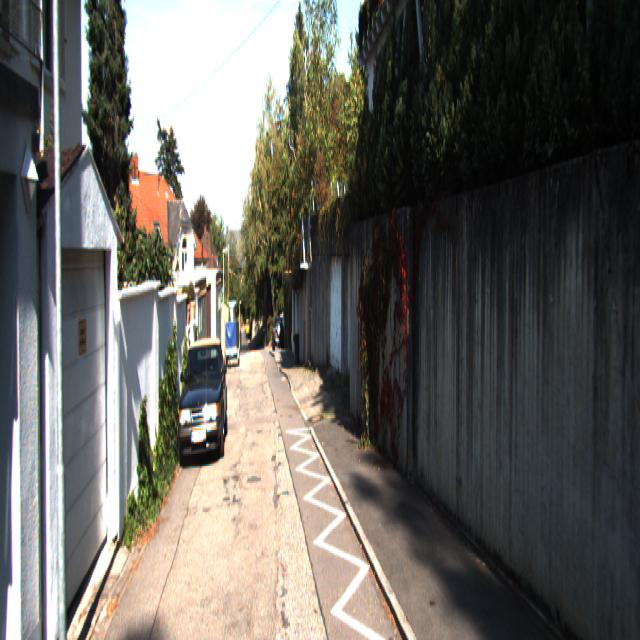Car: (175, 331, 228, 473), (225, 319, 239, 369), (272, 317, 285, 353)
